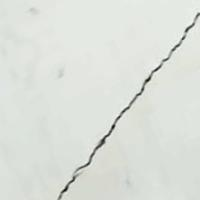crack: (55, 8, 199, 199)
